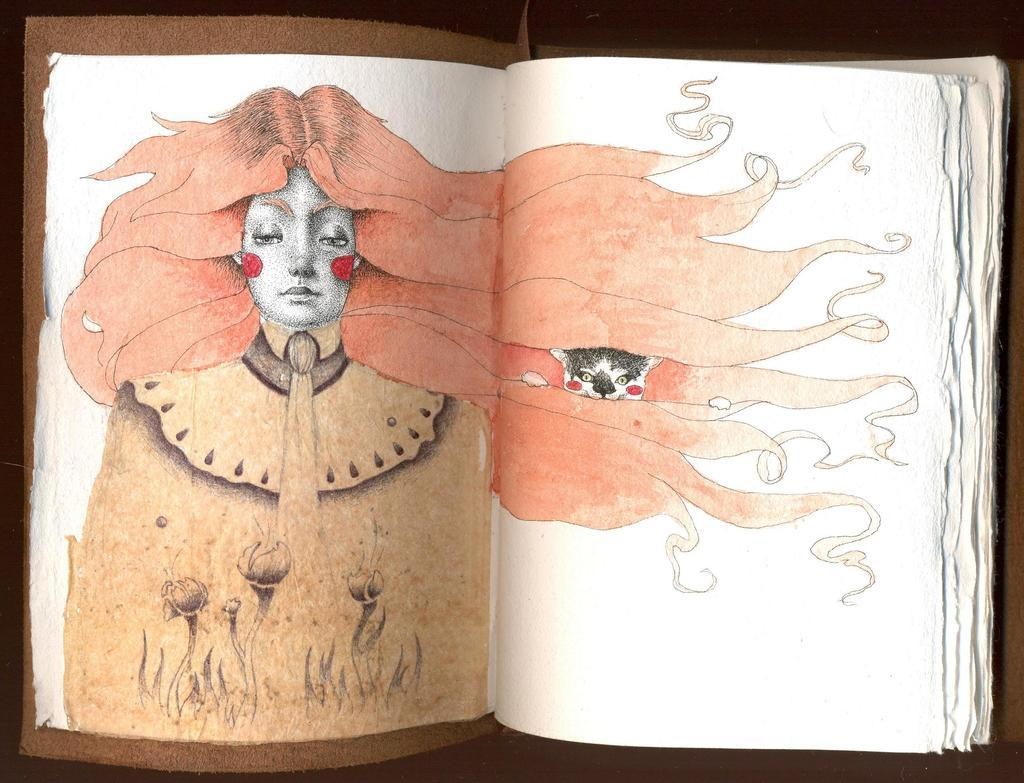book: (22, 37, 1000, 777)
